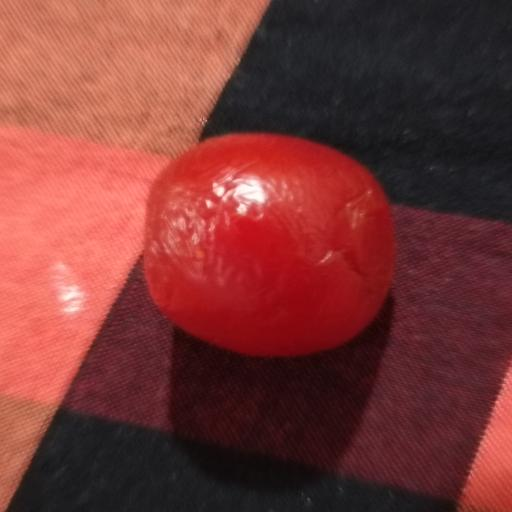spoiled: (144, 134, 394, 356)
